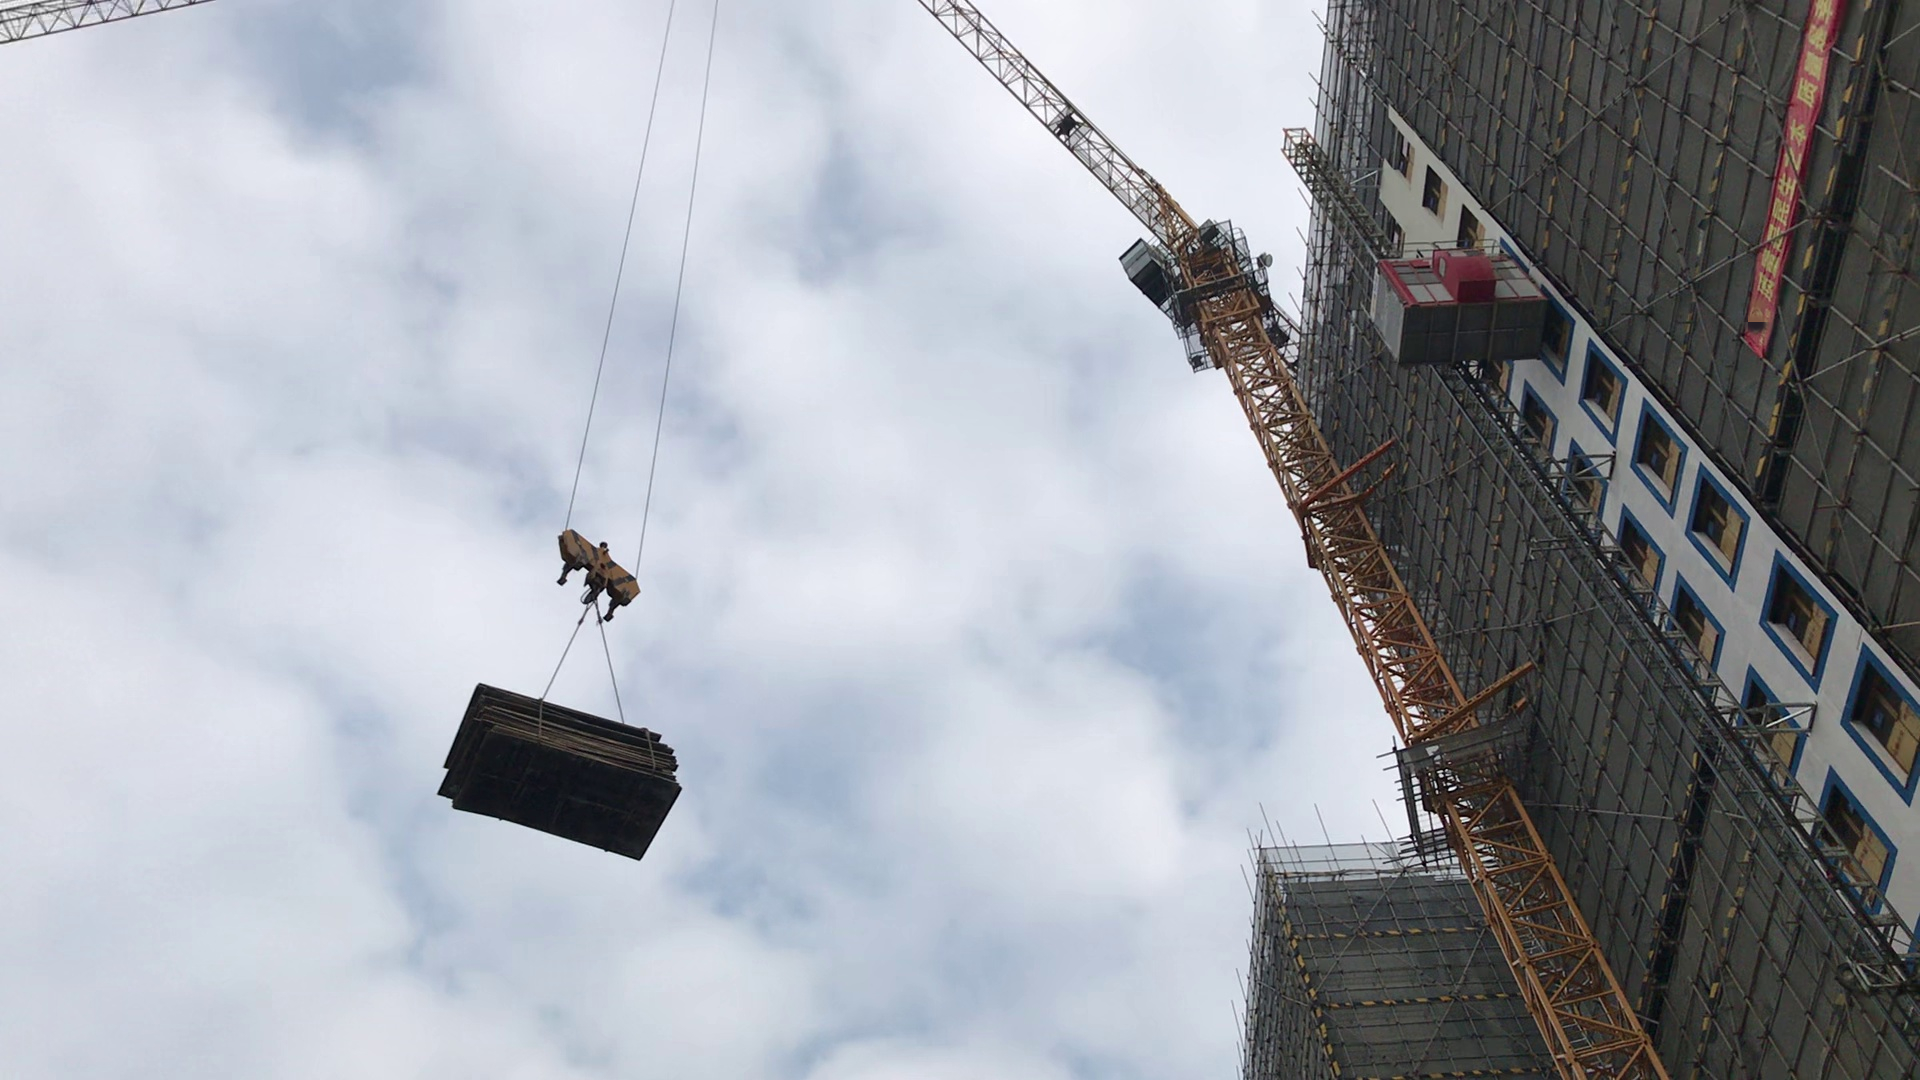board: (436, 673, 683, 866)
hook: (549, 520, 645, 618)
